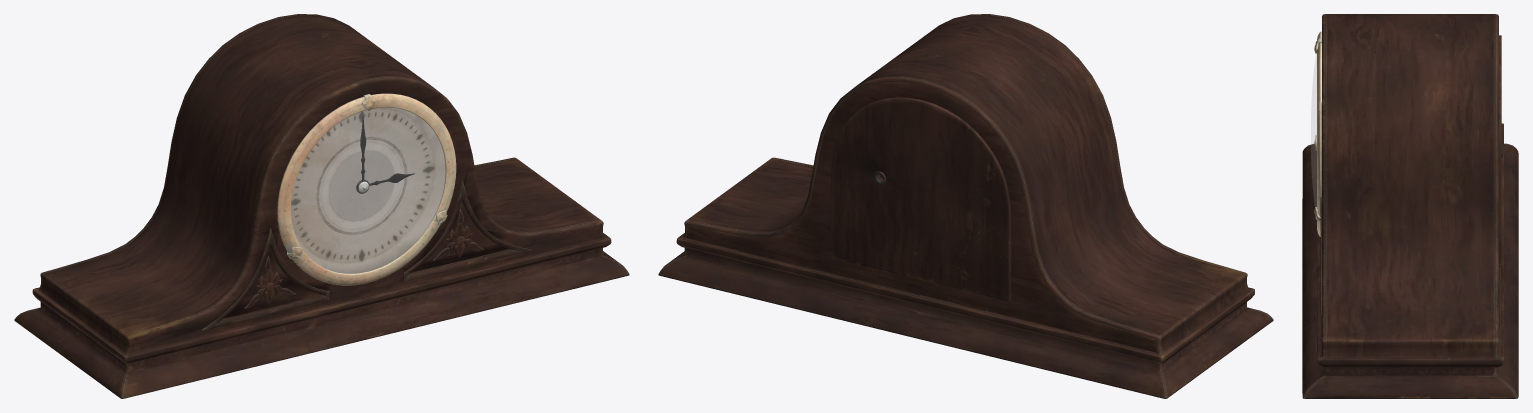
Rendered from ph-mantel-clock.glb.
3 renders of one model, left to right at view 1: azimuth 30°, elevation 25°; view 2: azimuth 150°, elevation 25°; view 3: azimuth 270°, elevation 25°, orthographic.
Parts seen in each view (by area): view 1: mantel_clock_01; view 2: mantel_clock_01; view 3: mantel_clock_01, mantel_clock_01_glass.
Part boxes in pixels (bbox=[...]): mantel_clock_01: bbox=[14, 14, 629, 398]; mantel_clock_01: bbox=[658, 14, 1273, 398]; mantel_clock_01: bbox=[1302, 14, 1518, 398]; mantel_clock_01_glass: bbox=[1311, 54, 1316, 206].
Size of the model in its own units: 0.3423 by 0.1605 by 0.1262.
Materials: 2 (1 with a texture image).
